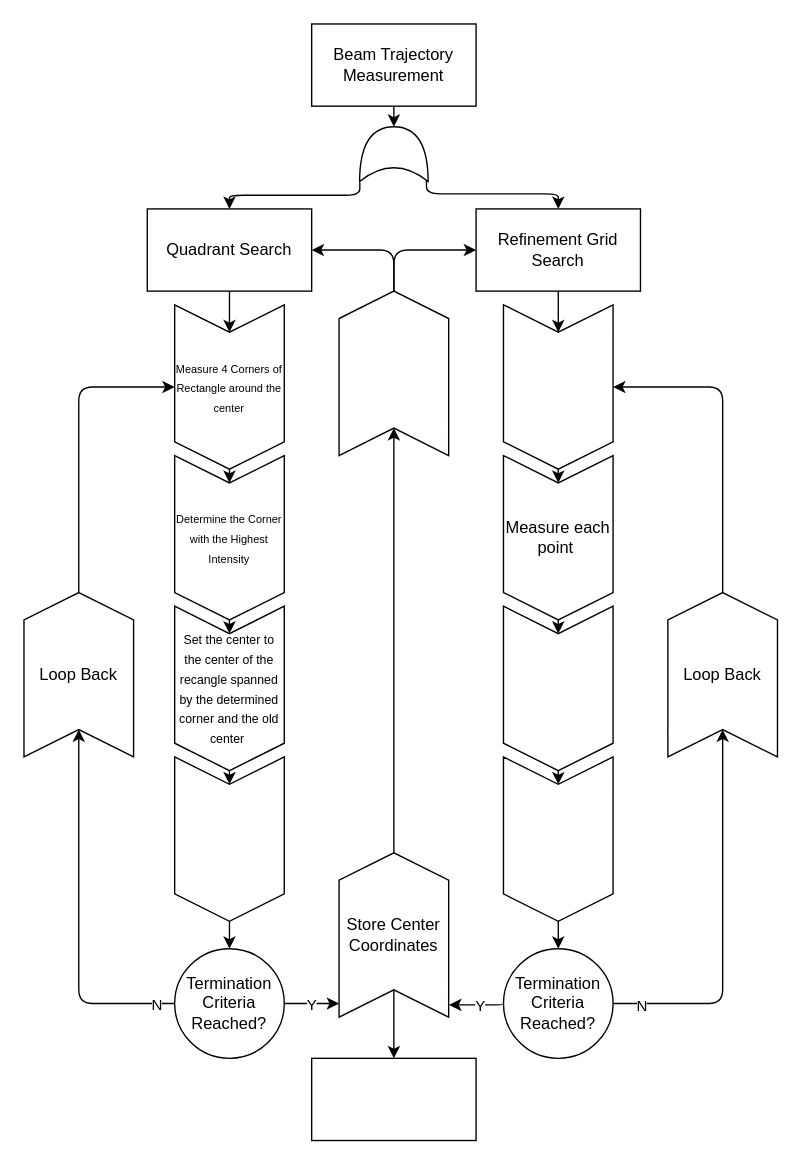
Image size: 801x1165. Some labels were removed from this diagram. The shapes that lost their labels are listed below. From the top down, each one's centre as x and y in pixels, then its label:
At pixel 393 373: "Move To Next Plane".
At pixel 557 386: "Create a Grid around an initial center estimate".
At pixel 557 688: "Set the Center as the point with the highest Intensity".
At pixel 228 838: "half the side lenghts of the new rectangle".
At pixel 557 838: "Half the grid size but keep the amount of points constant".
At pixel 393 1099: "Calculate Beam Trajectory from all Center Coordinates".
